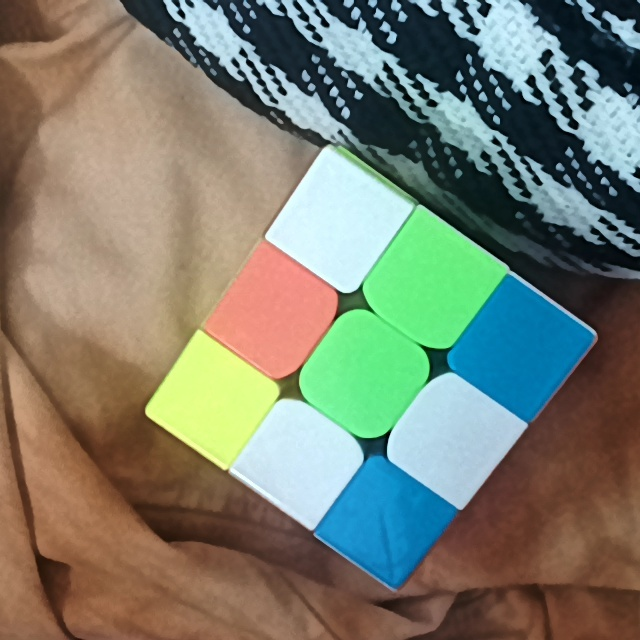tile: (325, 340, 399, 417), (302, 183, 377, 258), (397, 247, 473, 318), (348, 488, 422, 560), (237, 282, 310, 353), (488, 317, 562, 387), (422, 403, 493, 473), (263, 426, 336, 489), (175, 370, 246, 432)
